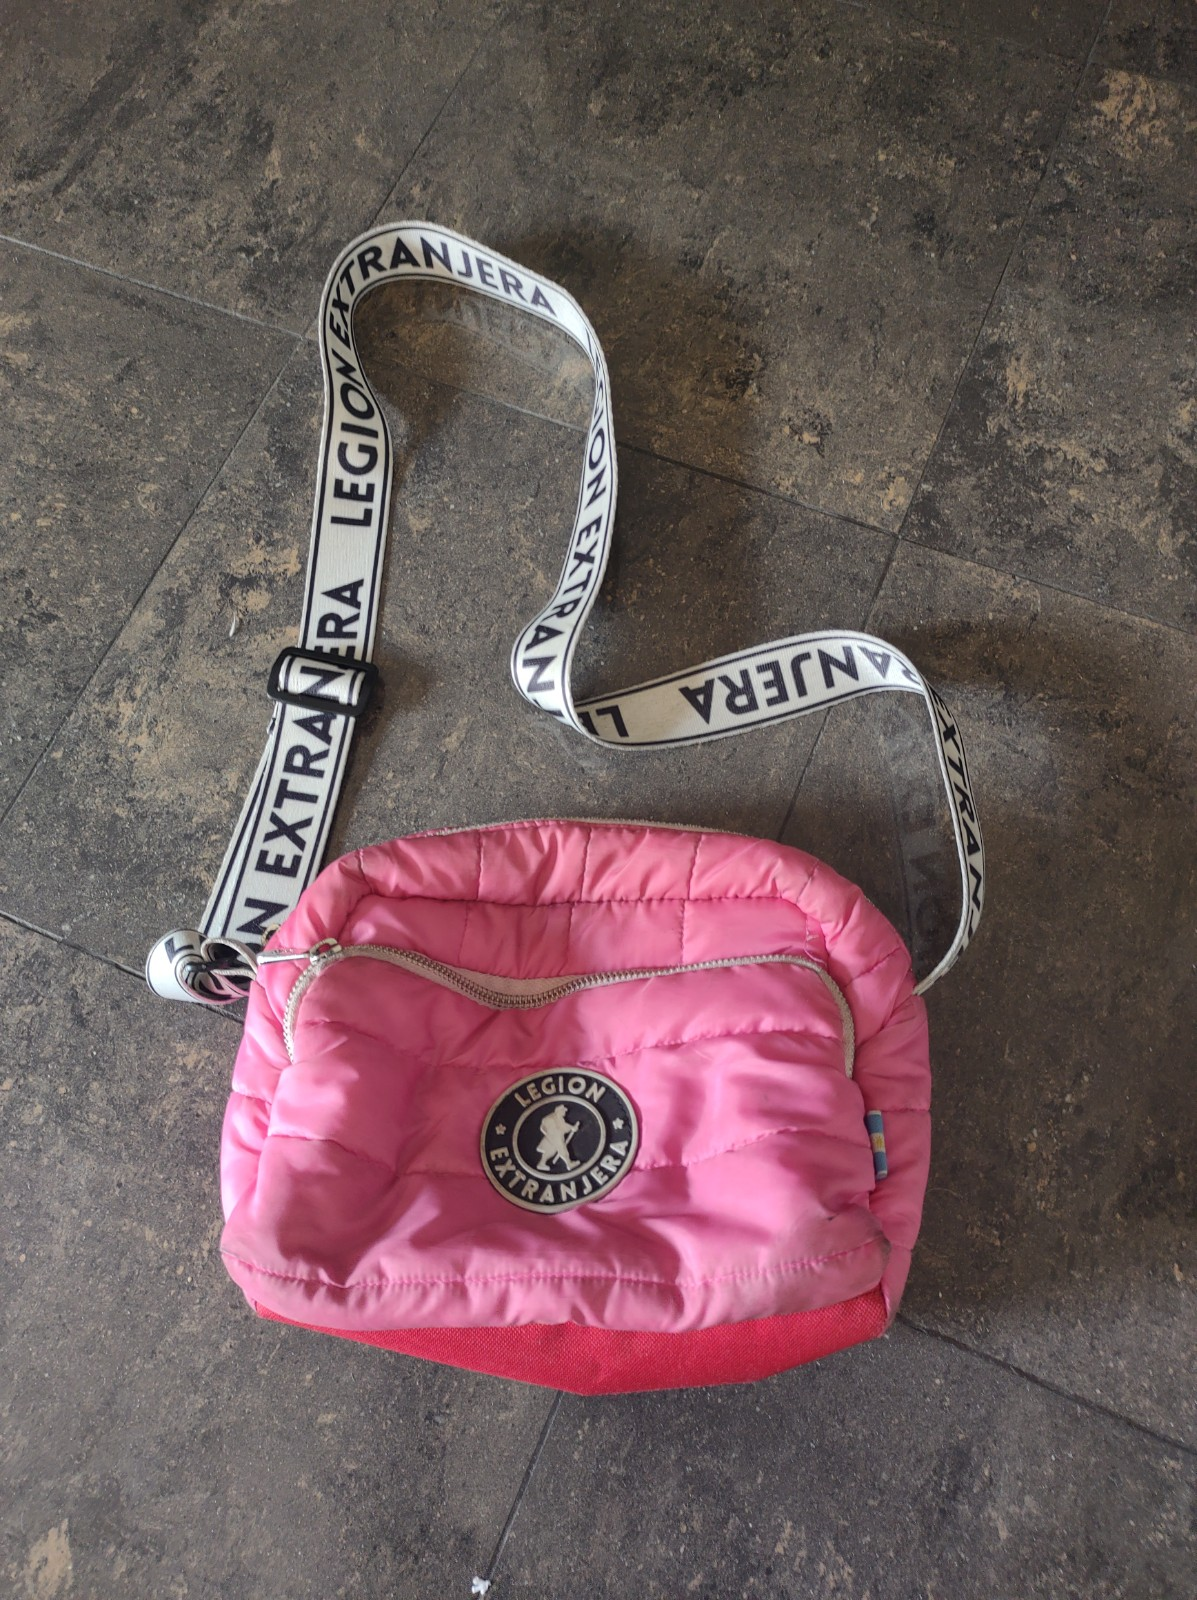cartera: (121, 621, 1067, 1476)
tela: (207, 846, 928, 1362)
